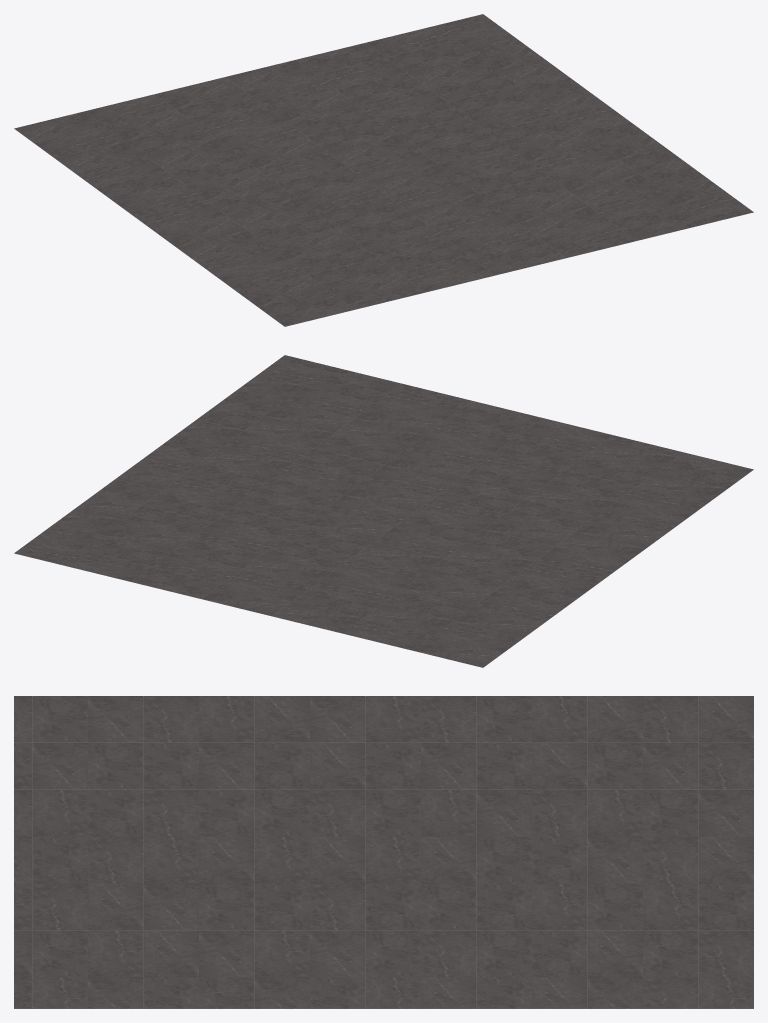
The model's file is elegant-gris-60x120.glb.
3 views of the same model, one above another, from view 1: azimuth 30°, elevation 25°; view 2: azimuth 150°, elevation 25°; view 3: azimuth 270°, elevation 25° (orthographic). The views are drawn at different scales.
Visible parts, largest first — view 1: Elegant Gris; view 2: Elegant Gris; view 3: Elegant Gris.
Boxes of the visible parts, x1=… form: Elegant Gris: x1=14, y1=14, x2=753, y2=326; Elegant Gris: x1=14, y1=355, x2=753, y2=667; Elegant Gris: x1=14, y1=696, x2=753, y2=1008.
Size of the model in its own units: 8 by 0.003 by 8.
Materials: 2 (1 with a texture image).
